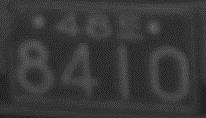0: (147, 43, 191, 102)
1: (107, 43, 142, 100)
4: (60, 40, 99, 99), (55, 10, 81, 39)
8: (14, 38, 54, 95), (83, 11, 114, 41)
도: (116, 13, 143, 41)
